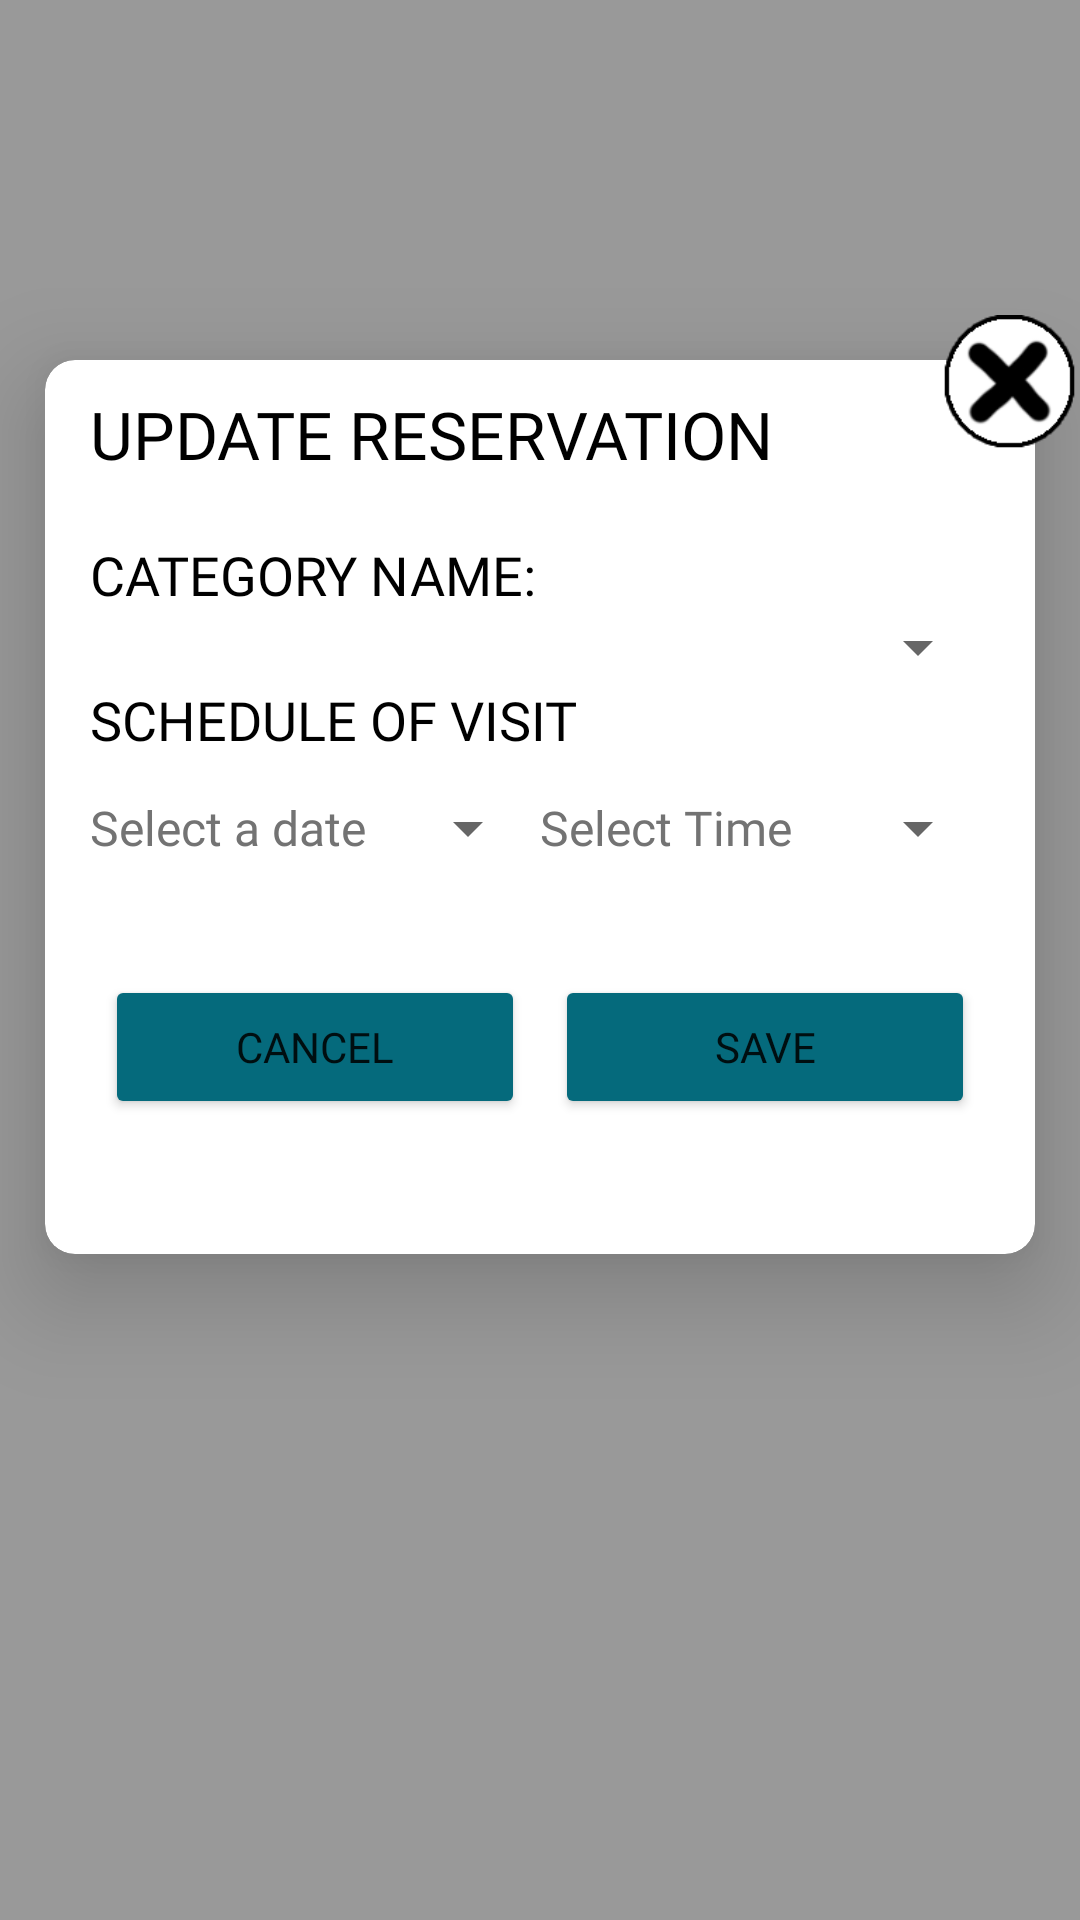

Named icons in this screenshot (1080*1920) and their centers, point (x, y):
close: point (1009, 382)
